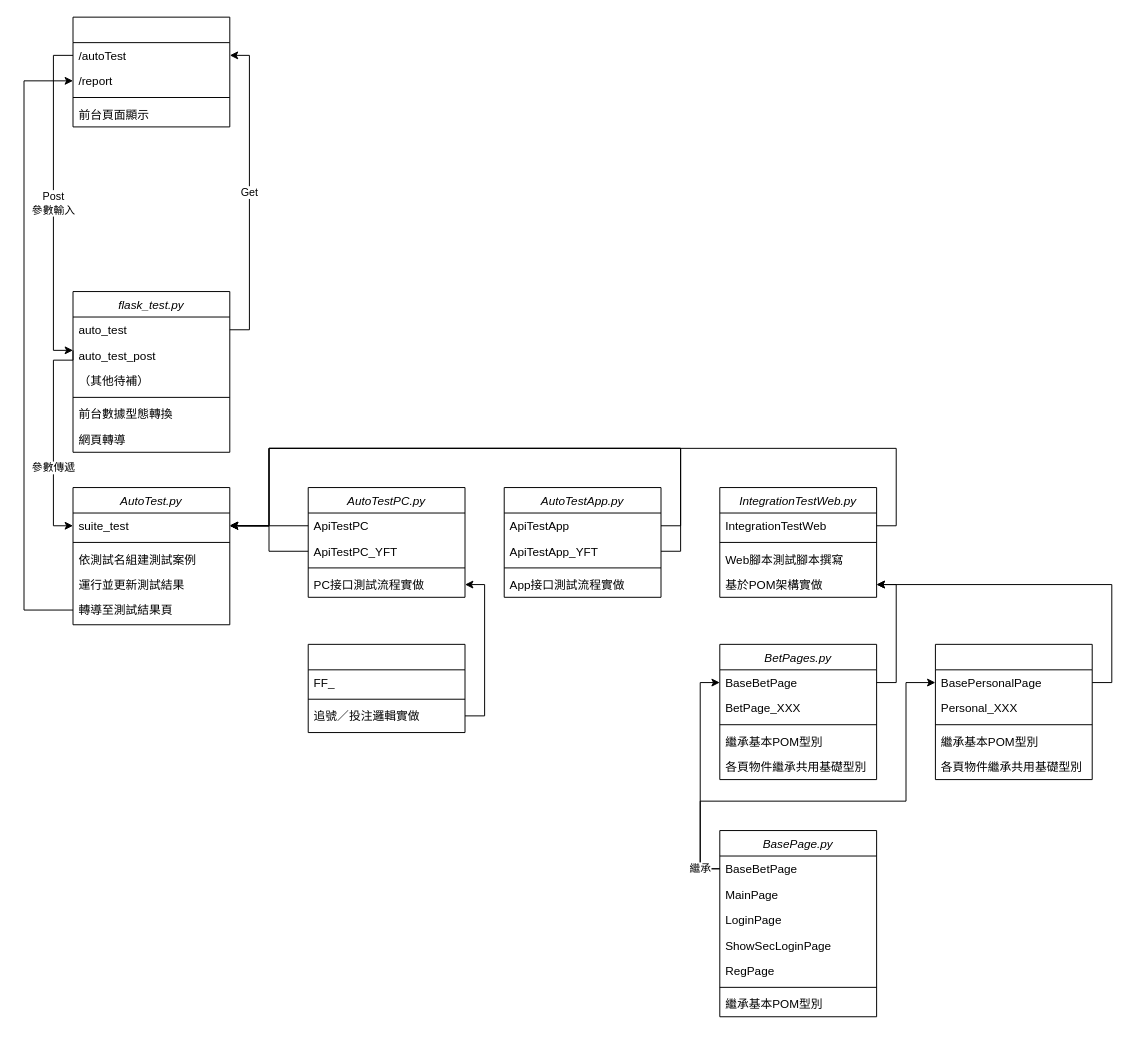
This 1137x1037 diagram has some shape labels left out. Here are the shapes that lost their labels. From the top down, the box of each, then its label:
(72, 16, 230, 127): Web Page
(307, 643, 465, 733): FF_Joy188.py
(934, 643, 1092, 780): PersonalPages.py
